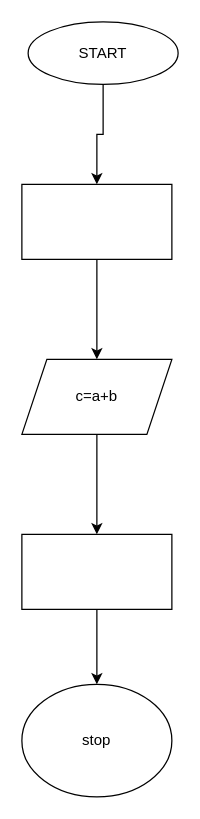
Some shapes in this 200 by 819 pixel diagram are drawn without their labels. The shapes that lost their labels are listed below. From the top down, each one's box as (x1, y1, x2, y2) in pixels, then its label:
(21, 183, 172, 259): Declare a,b,c
(21, 533, 172, 609): print c
